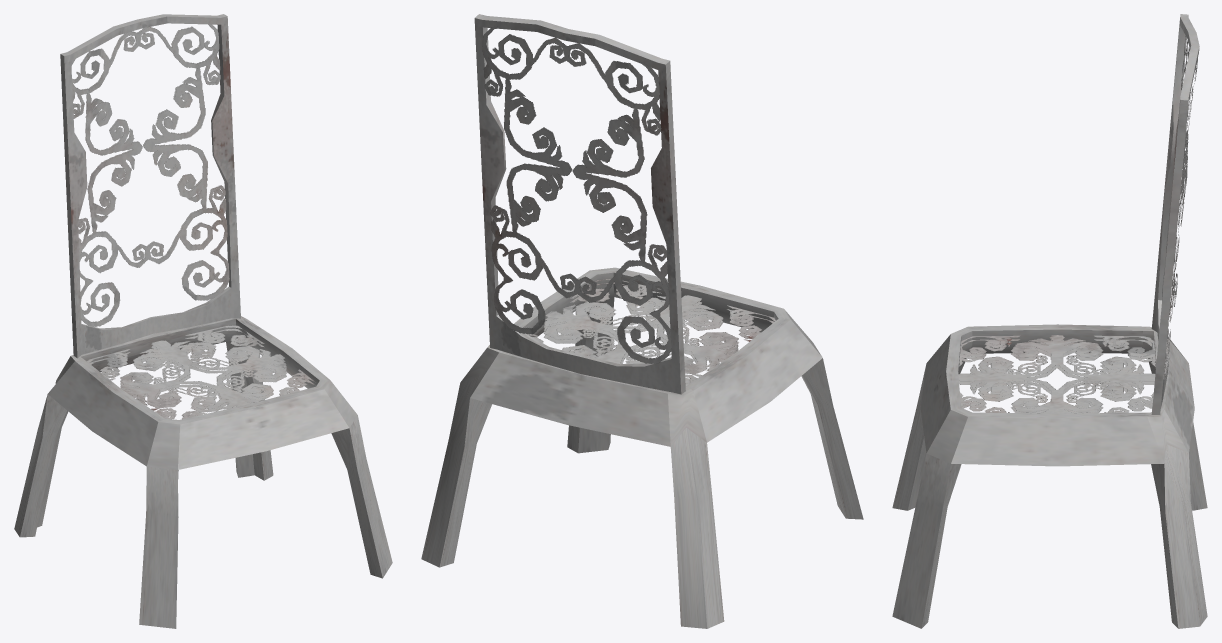
File: Chair_Victorian.fbx
3 renders of one model, left to right at view 1: azimuth 30°, elevation 25°; view 2: azimuth 150°, elevation 25°; view 3: azimuth 270°, elevation 25°, orthographic. The views are drawn at different scales.
Visible parts, largest first — view 1: Chair_victorian; view 2: Chair_victorian; view 3: Chair_victorian.
Boxes of the visible parts, x1,y1,x2,y2 form: Chair_victorian: [14, 14, 392, 628]; Chair_victorian: [421, 14, 863, 628]; Chair_victorian: [892, 14, 1207, 628].
Bounding box in the file's own units: 236 × 427 × 236.
